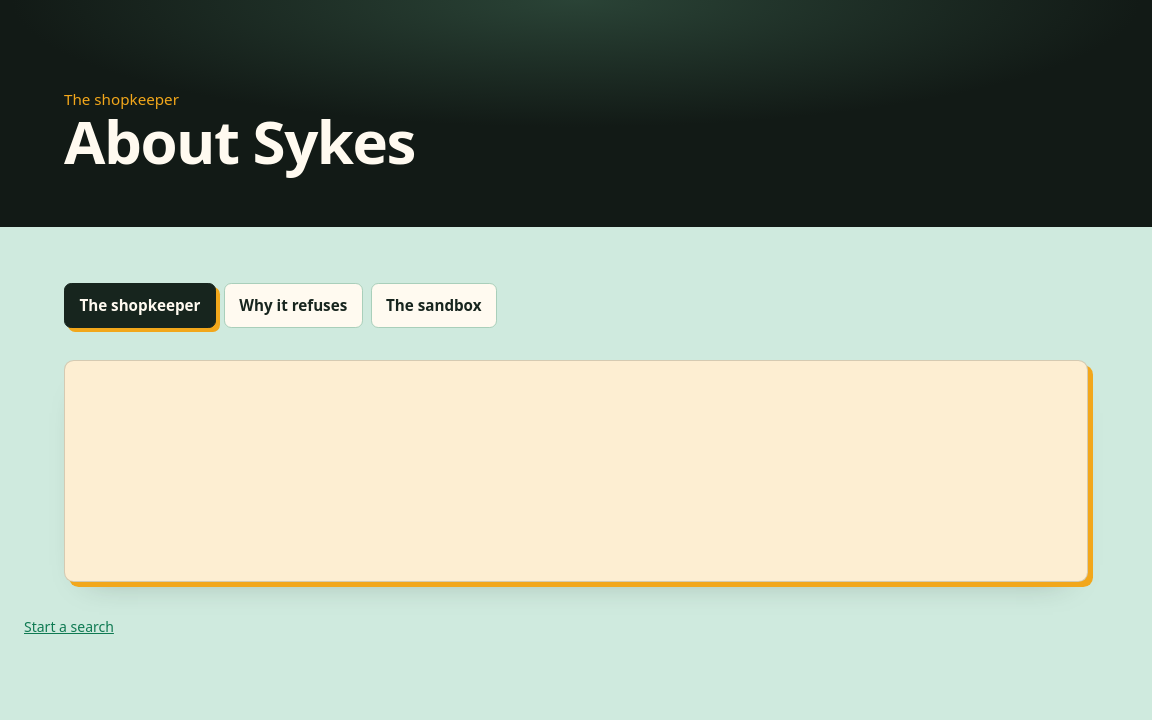
Test: clicking a chapter swaps the story without leaving the page
Click the tab "Why it refuses" at (293, 306), box [224, 283, 363, 328]
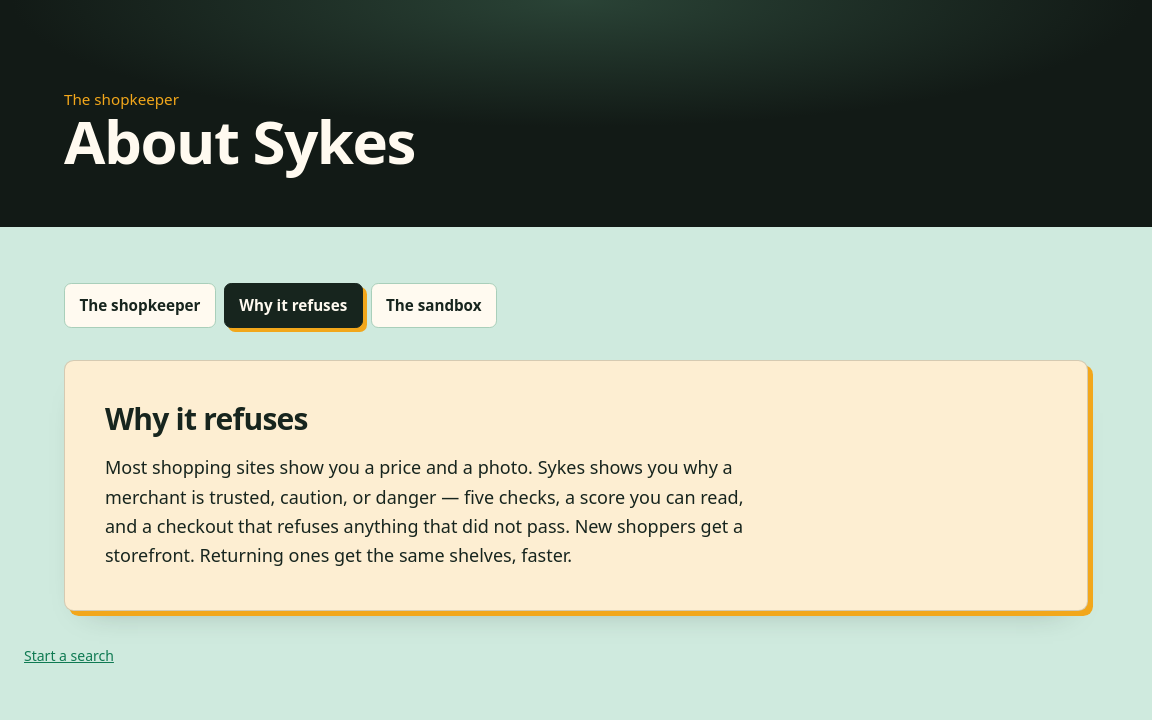
Check: the text "five checks, a score you can read" is shown, box [105, 455, 744, 567]
